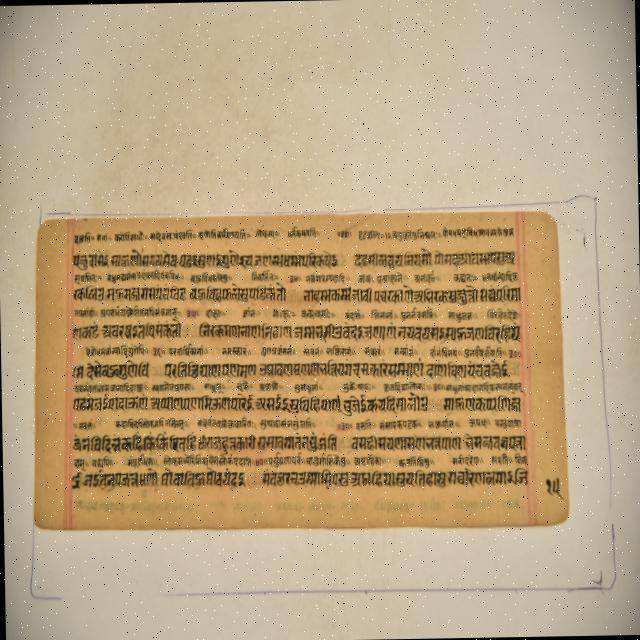text_paragraph: (32, 211, 567, 524)
